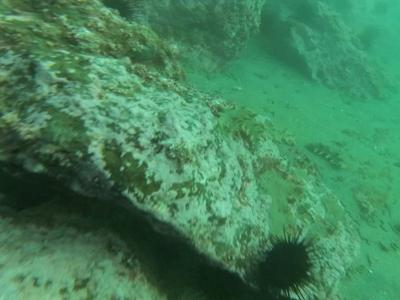holothurian: (303, 140, 346, 168)
urchin: (248, 224, 330, 296)
